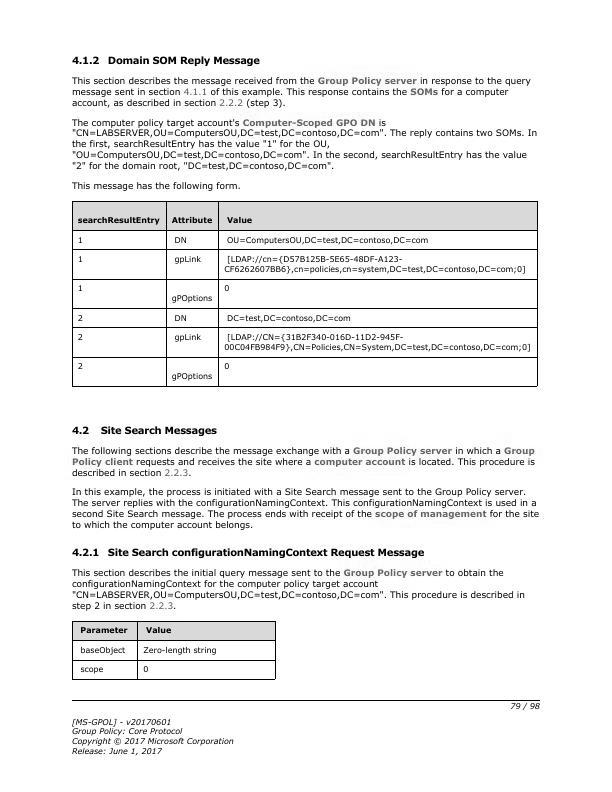table: (71, 200, 540, 389), (71, 620, 277, 682)
text: (70, 117, 540, 175), (68, 485, 540, 533), (69, 565, 526, 613), (69, 443, 537, 479), (70, 74, 532, 109), (69, 714, 235, 757), (70, 546, 428, 560), (68, 53, 264, 69), (70, 178, 243, 194), (68, 423, 220, 438)
